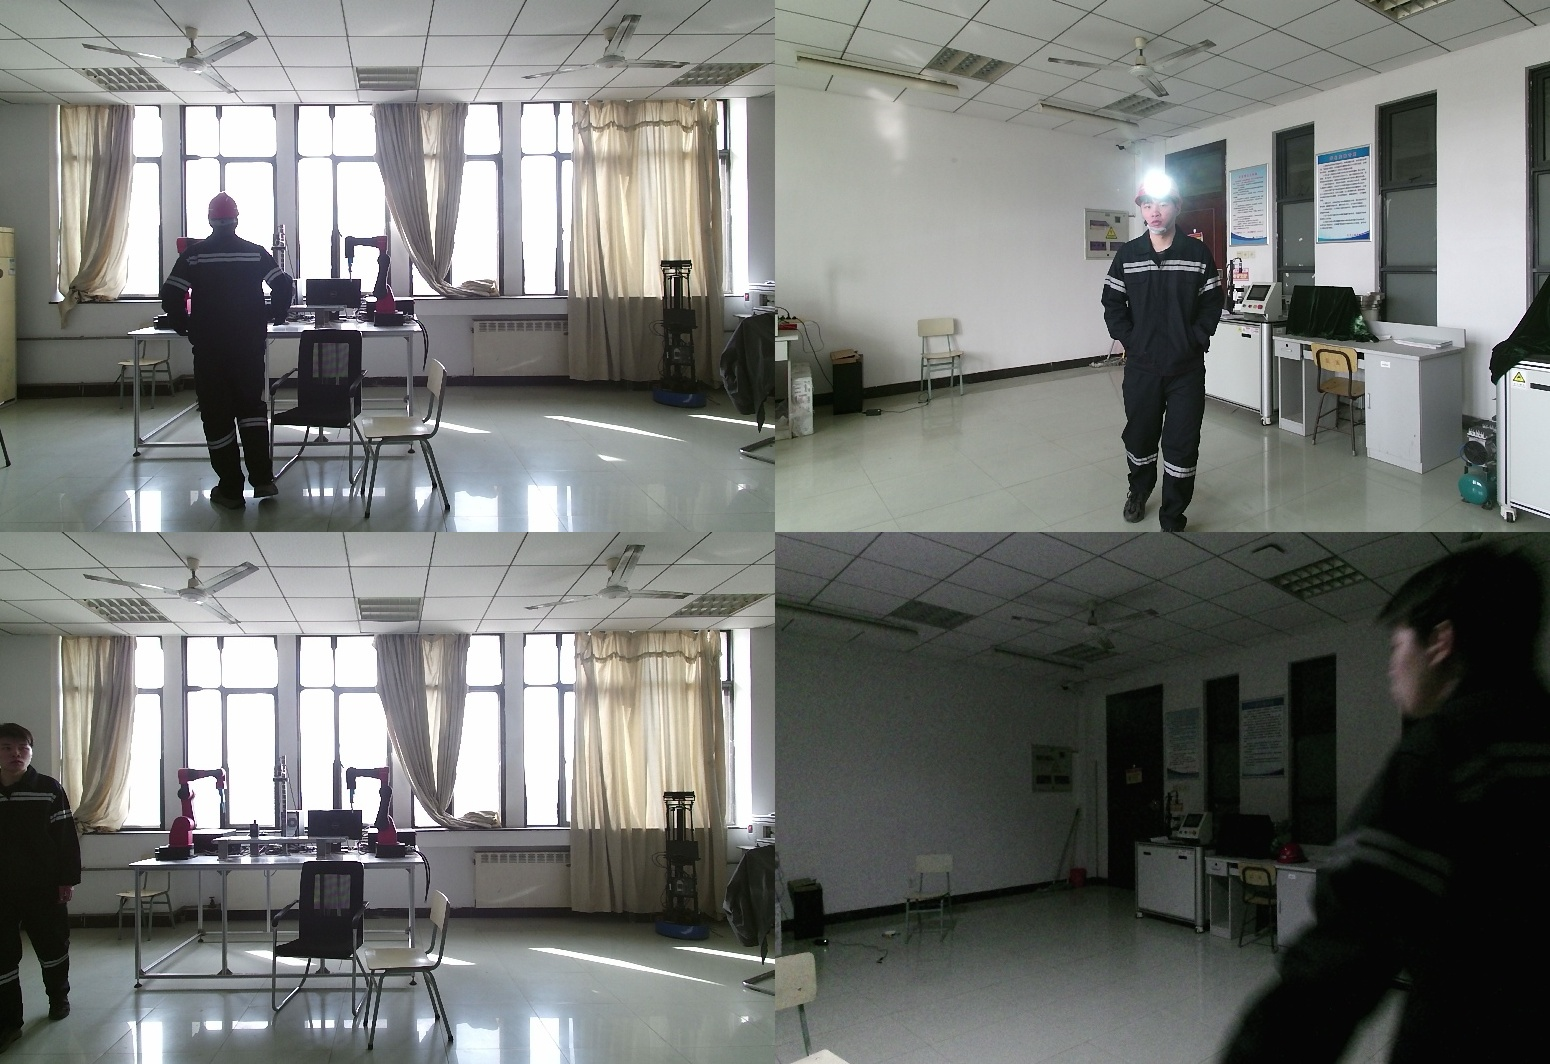person: (1311, 545, 1550, 1064), (1096, 175, 1230, 532), (163, 194, 298, 506), (3, 723, 88, 1048)
